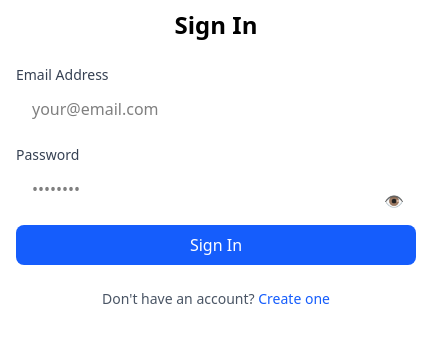
Scenario: LoginForm › Validation › shows validation error for short password
In the field labelled "Email Address": (216, 109) [16,89,416,129], type "test@example.com"
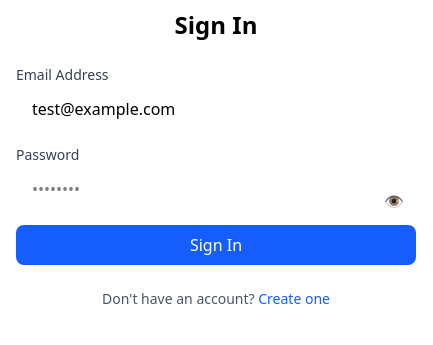
In the password field labelled "Password": (216, 189) [16,169,416,209], type "short"
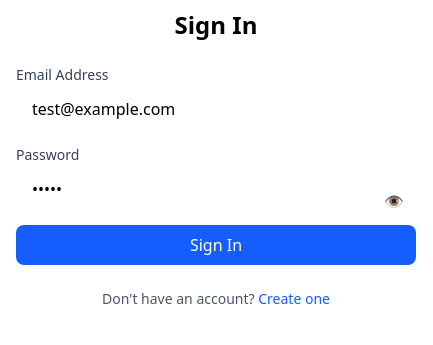
Click the button "Sign In": (216, 245) [16,225,416,265]
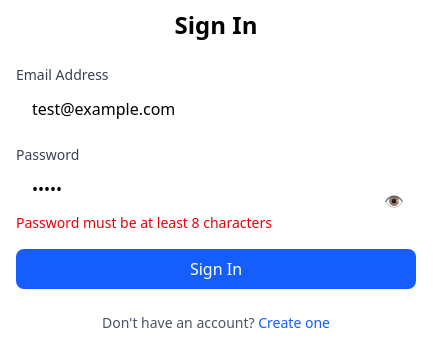
Expected: the text "Password must be at least 8 characters" is shown, [16,213,272,232]
